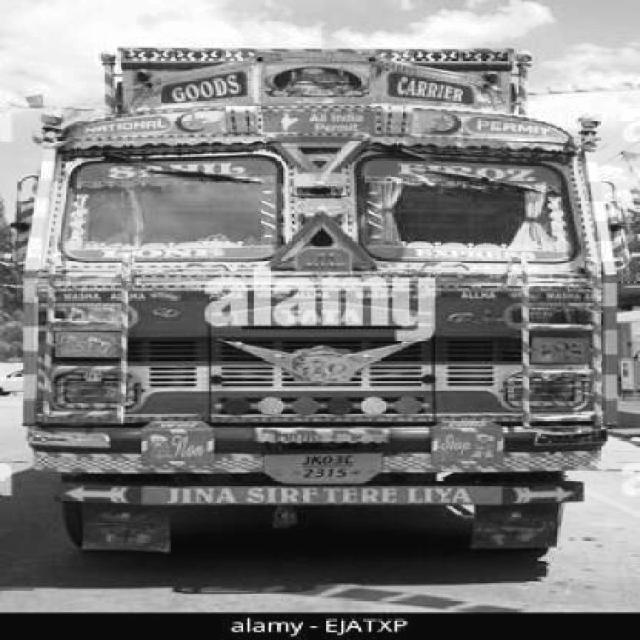HCV: (25, 46, 613, 566)
